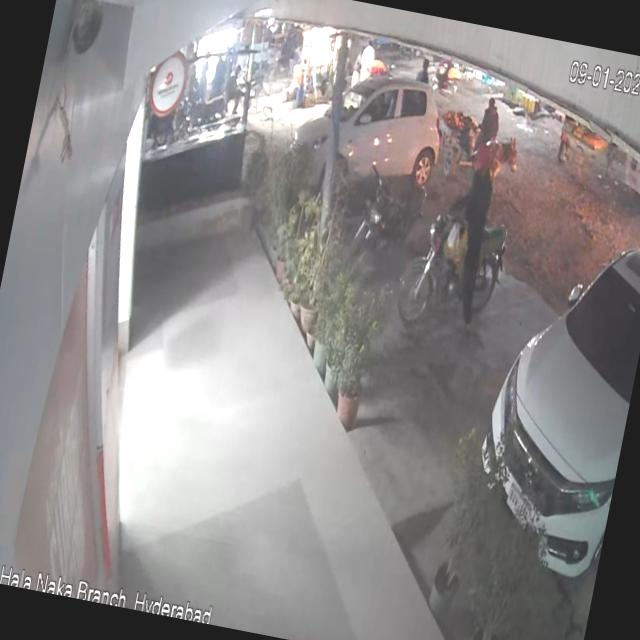Car: (457, 207, 640, 602), (282, 61, 468, 220)
Motorcycle: (389, 195, 524, 355), (336, 152, 432, 282)
